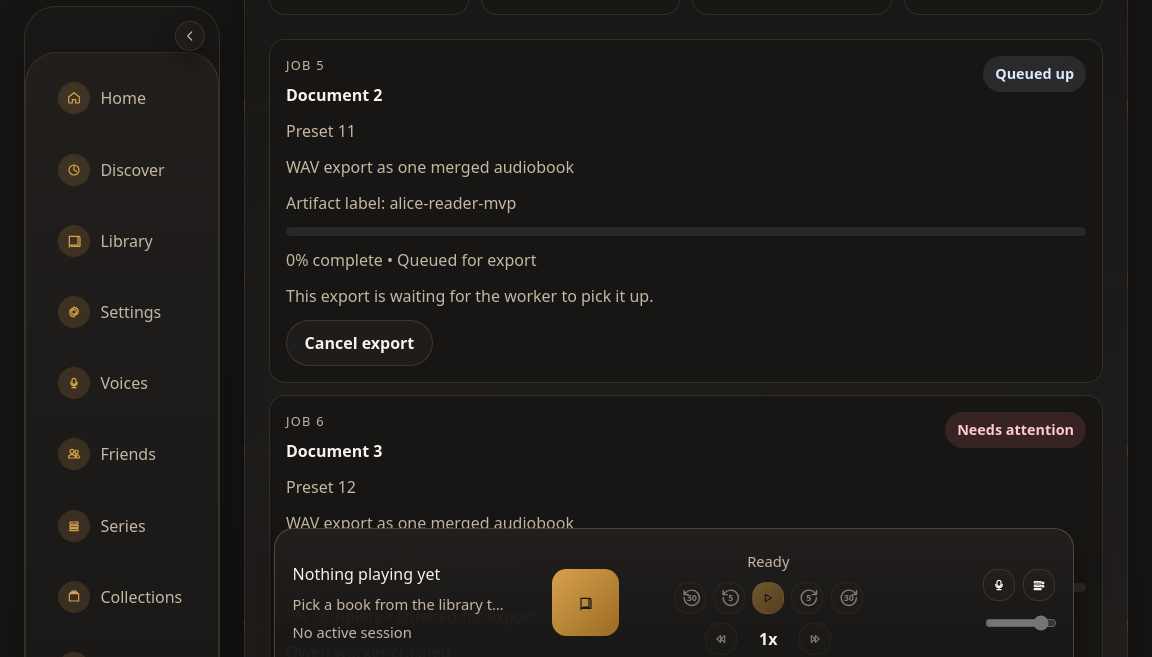
Test case: JobsPage › lets Alice cancel queued work and retry a failed export attempt
(page scrolled)
Check: the text "Document 2" is shown, box [286,83,382,107]
What coordinates should you click on to do the following:
click the button "Cancel export"
I would click on:
 (359, 343)
Its box is [286,320,433,366].
(page scrolled)
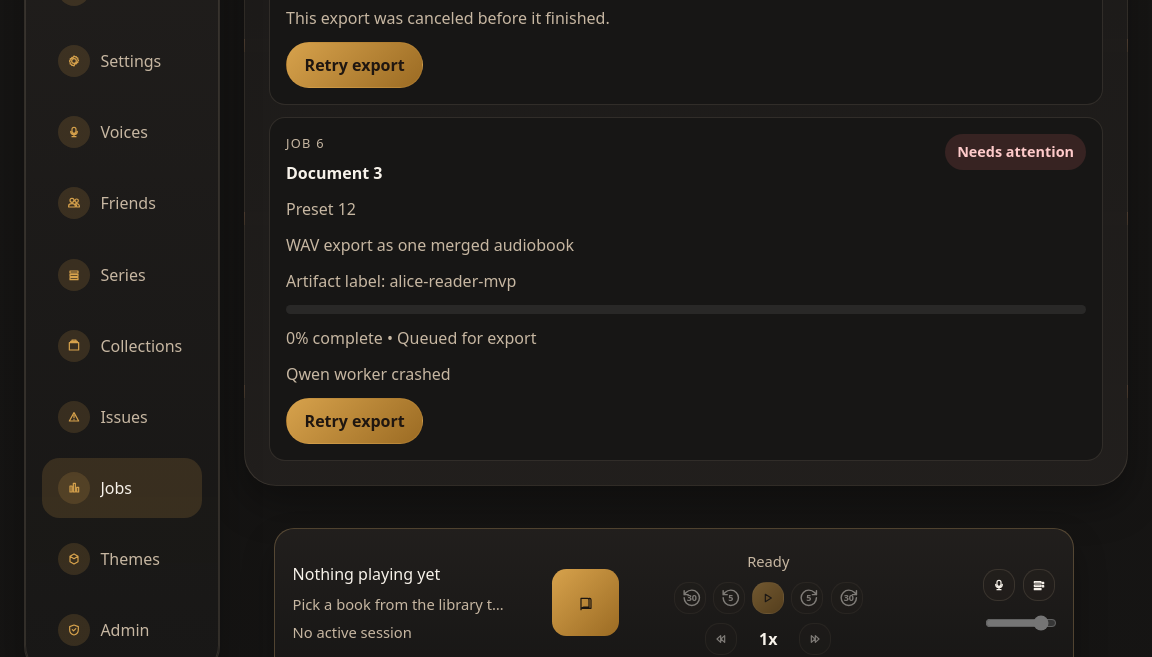
What coordinates should you click on to do the following:
click the button "Retry export" below "Document 3"
I would click on:
 (355, 421)
Its box is [286,398,423,444].
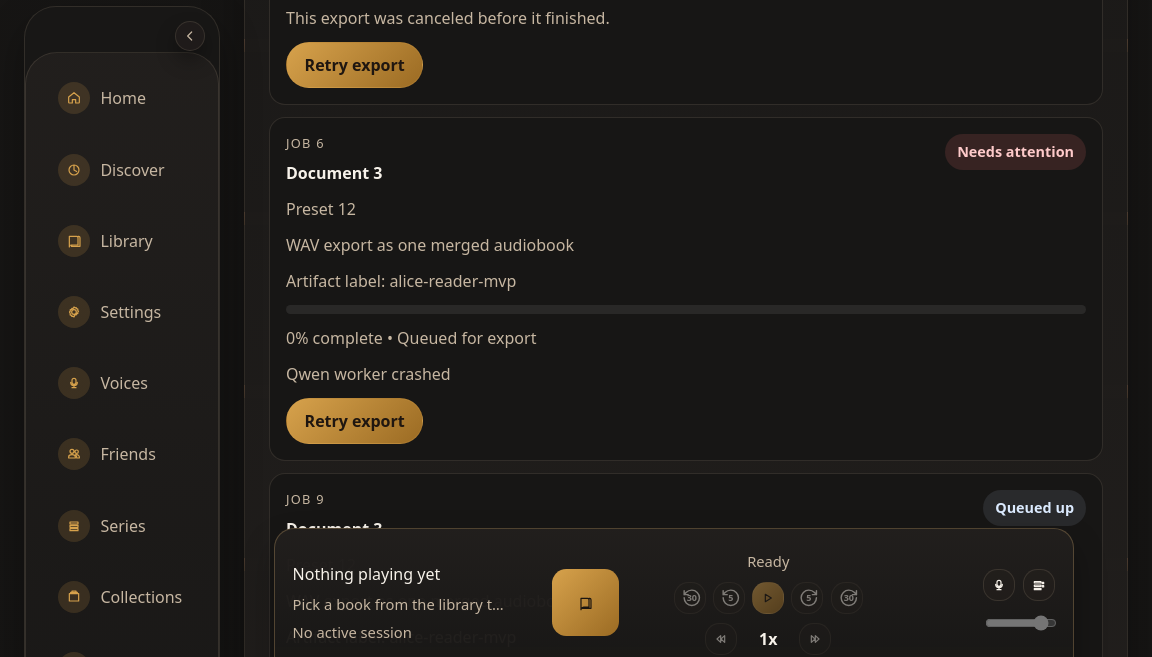
Check: the text "Job 9" is shown, box [286,490,325,508]
